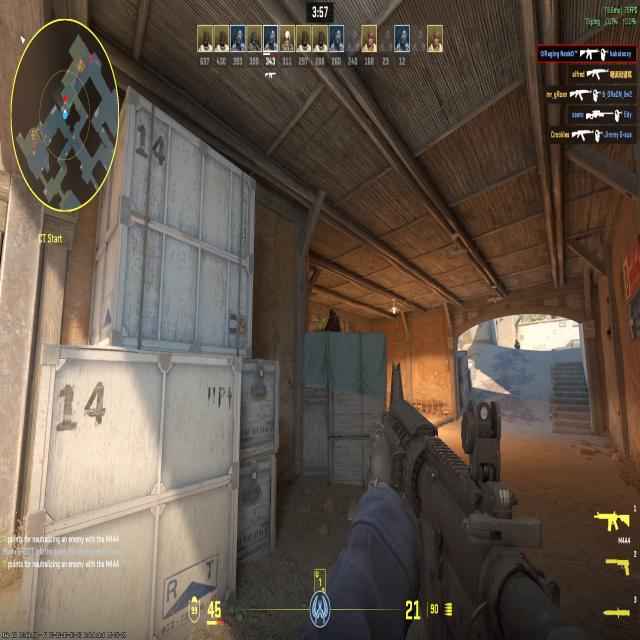player: (321, 306, 345, 337), (514, 337, 521, 353)
